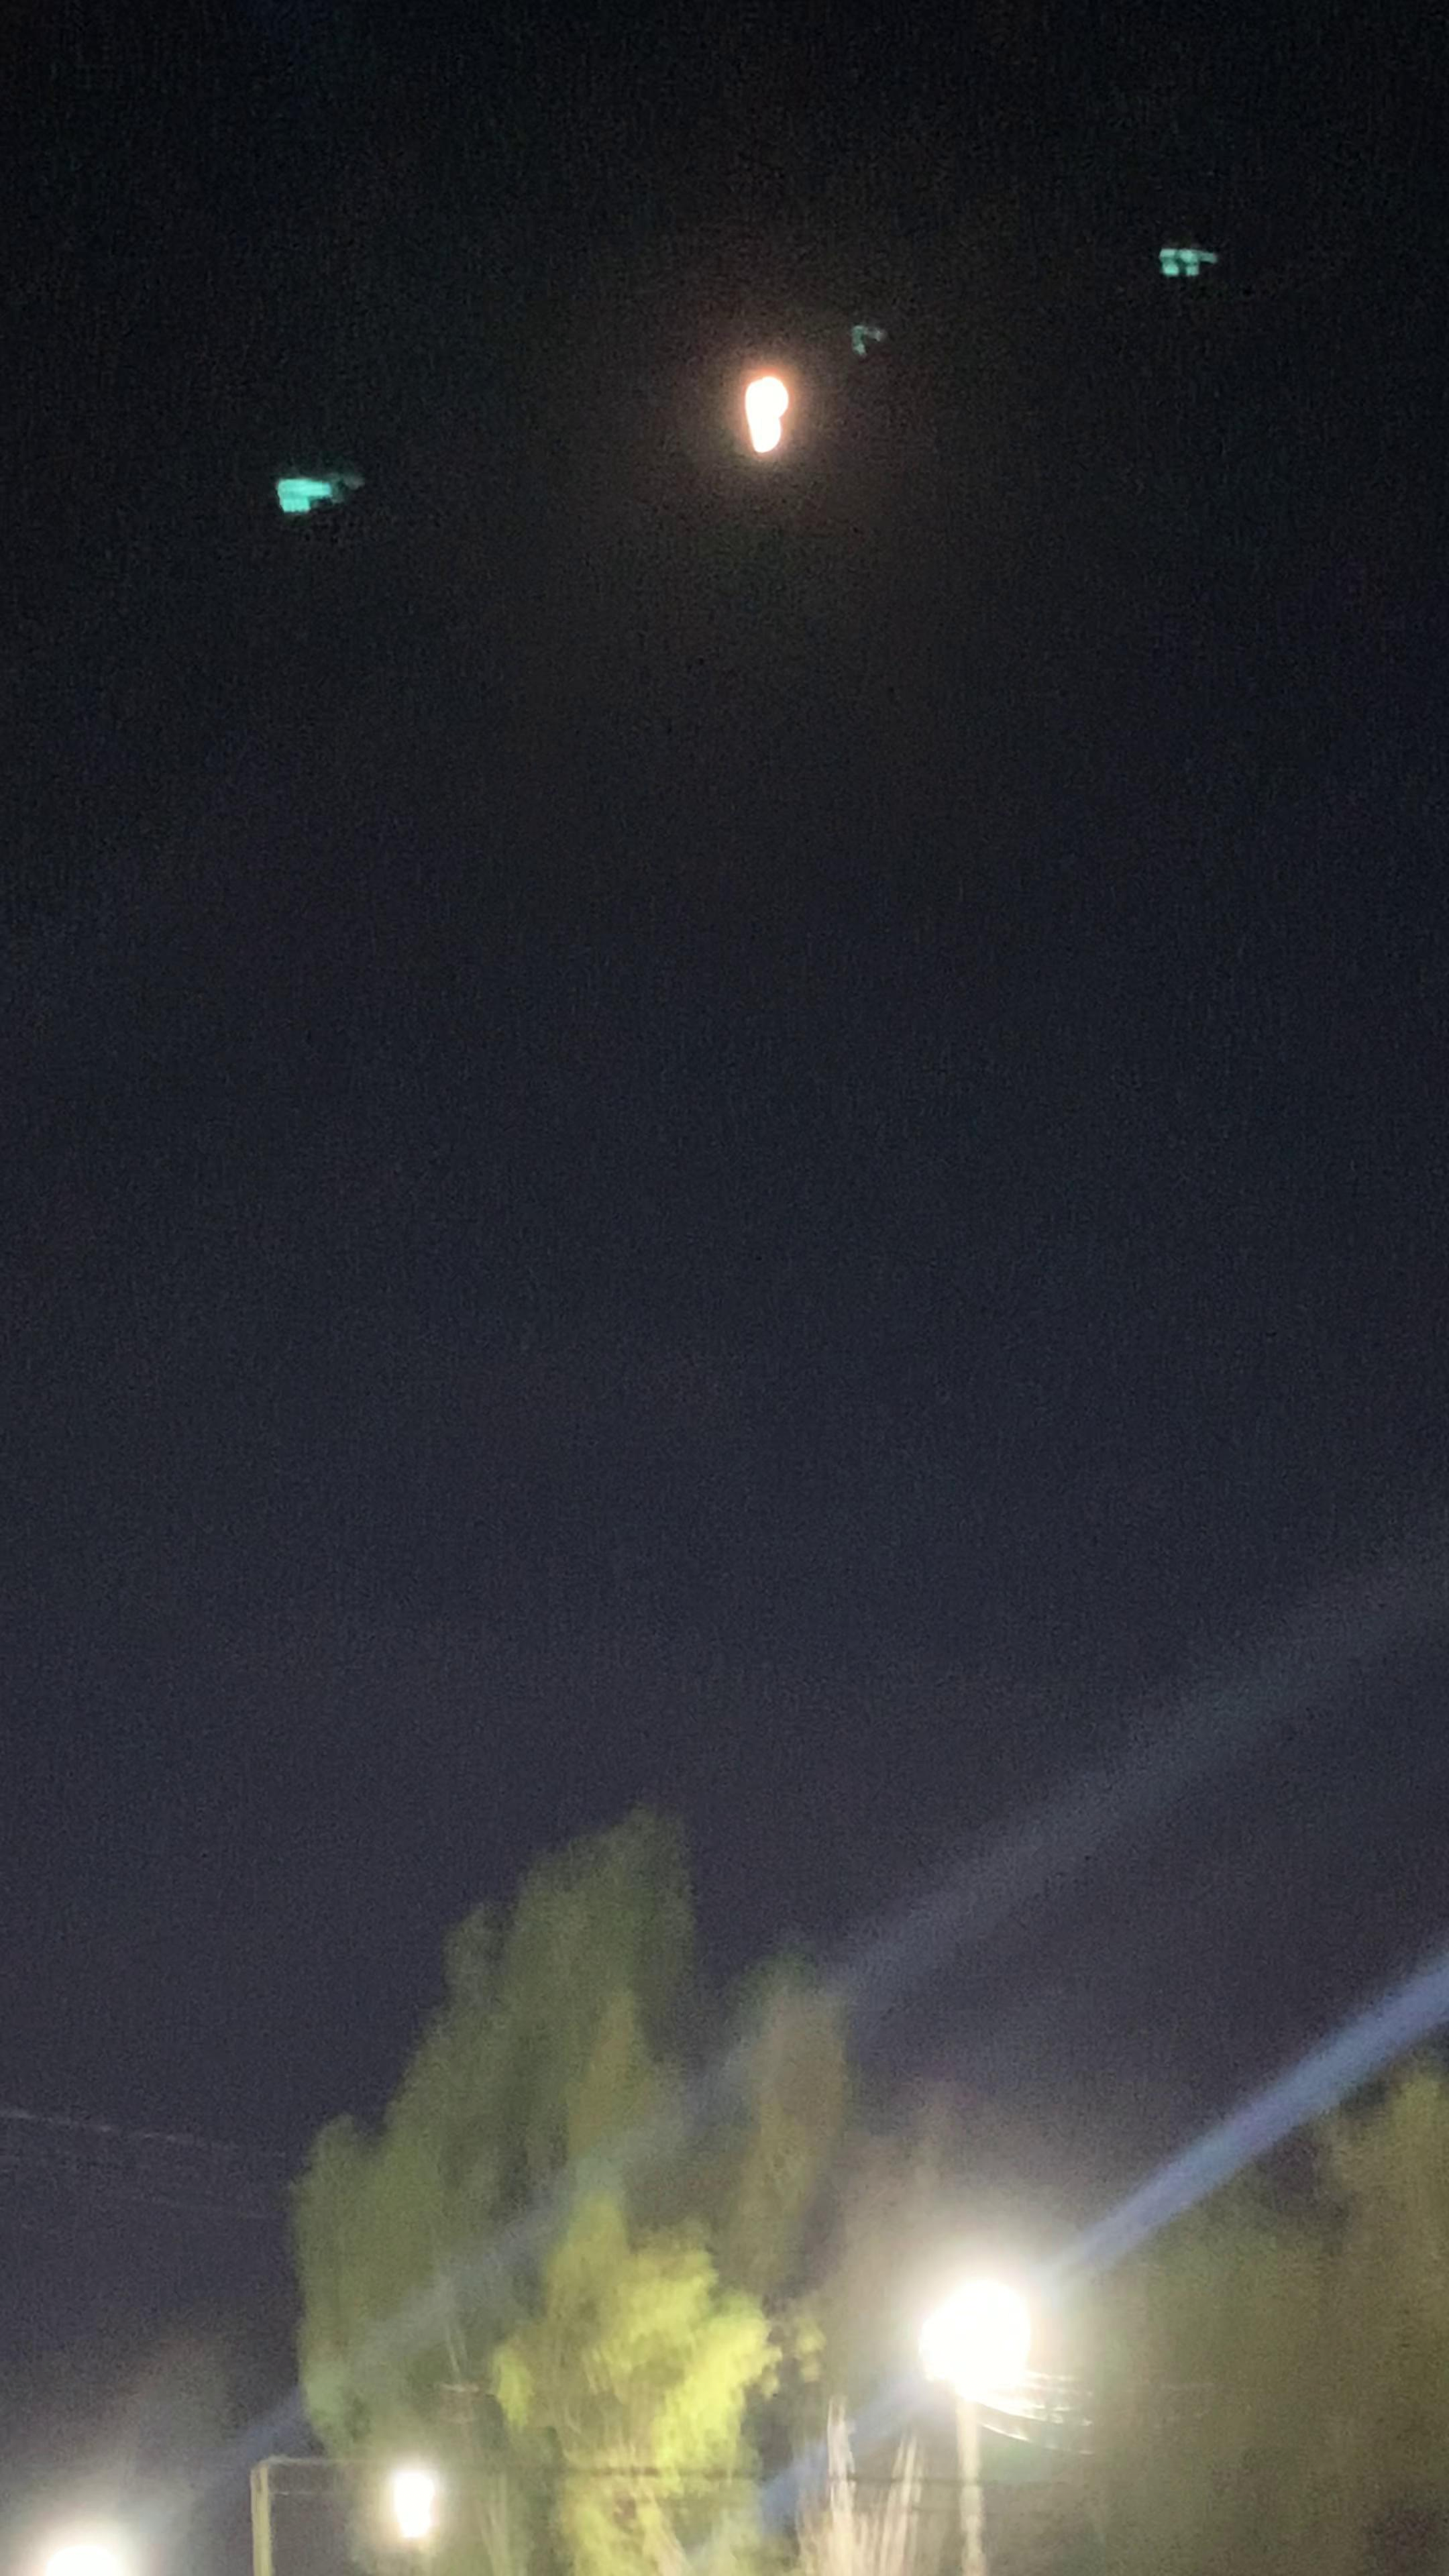moon: (681, 329, 842, 474)
